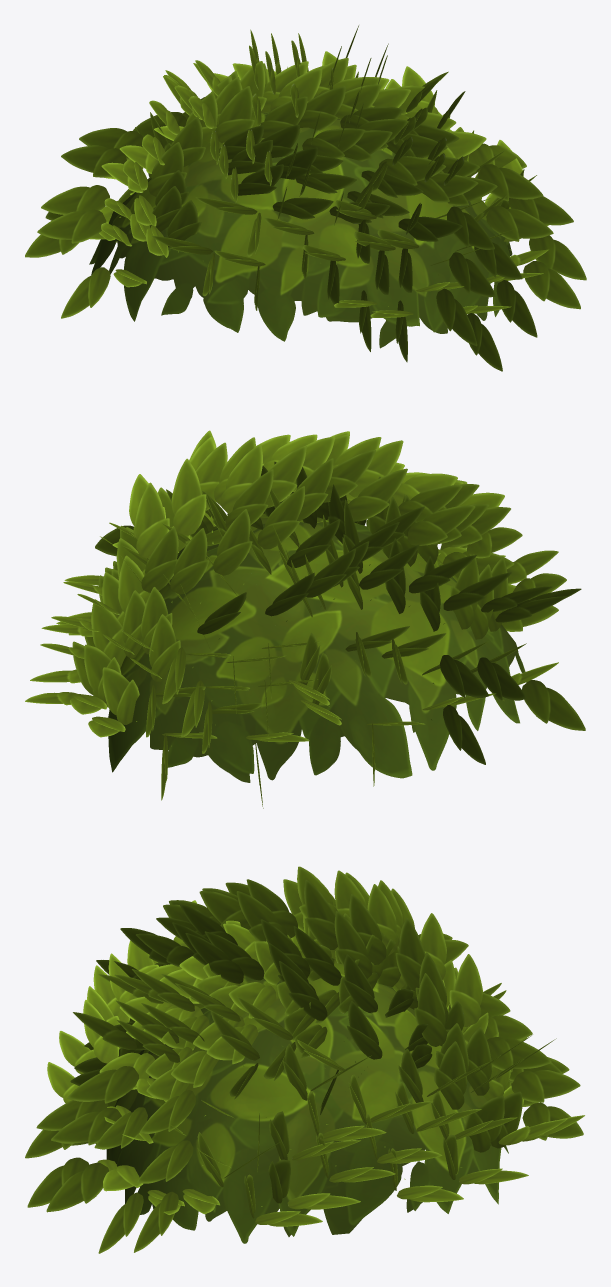
Rendered from Fuzzy Leaves 01.fbx.
The picture shows the model from 3 angles, top to bottom: view 1: azimuth 30°, elevation 25°; view 2: azimuth 150°, elevation 25°; view 3: azimuth 270°, elevation 25°; orthographic projection. The views are drawn at different scales.
Visible parts, largest first — view 1: Fuzzy Leaves #1; view 2: Fuzzy Leaves #1; view 3: Fuzzy Leaves #1.
Part boxes in pixels (box(x1,y1,x2,y2)): Fuzzy Leaves #1: box(25, 25, 586, 371); Fuzzy Leaves #1: box(25, 430, 585, 808); Fuzzy Leaves #1: box(25, 866, 584, 1253).
Size of the model in its own units: 395 by 223 by 384.
1 material, 1 textured.
